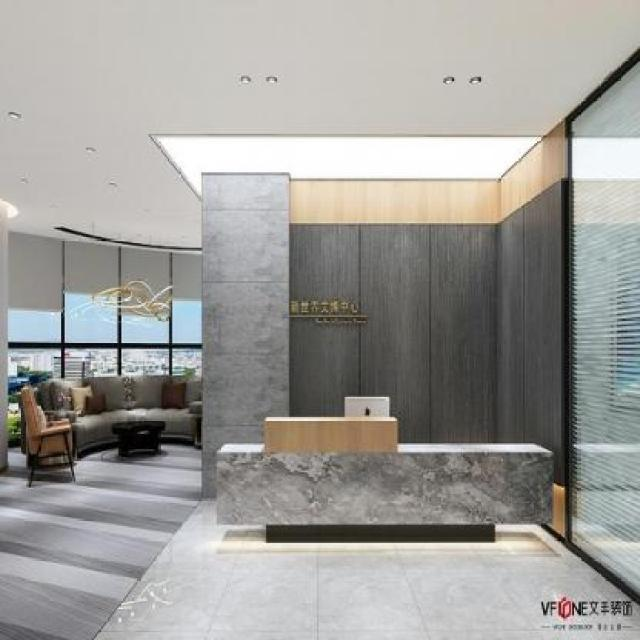frontdesk: (214, 406, 556, 552)
